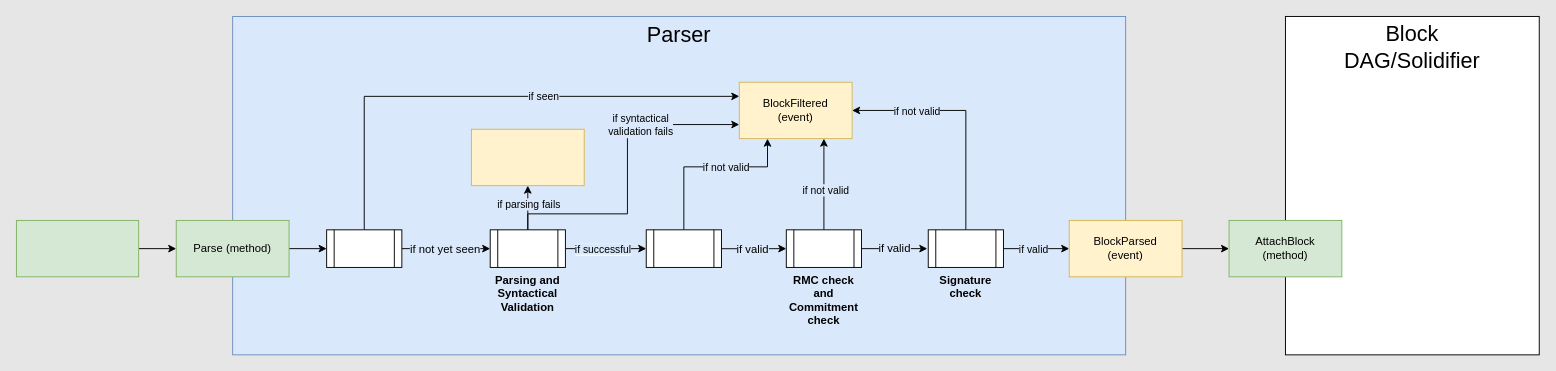
Some shapes in this 1556 by 371 pixel diagram are drawn without their labels. The box of each missing label's shape, as (x1, y1, x2, y2) in pixels:
ParsingFailed (event): (470, 128, 584, 186)
ProcessGossipBlock (method): (16, 219, 139, 277)
Recently seen bytes: (326, 229, 402, 267)
Timestamp Diff Check: (645, 229, 721, 267)
